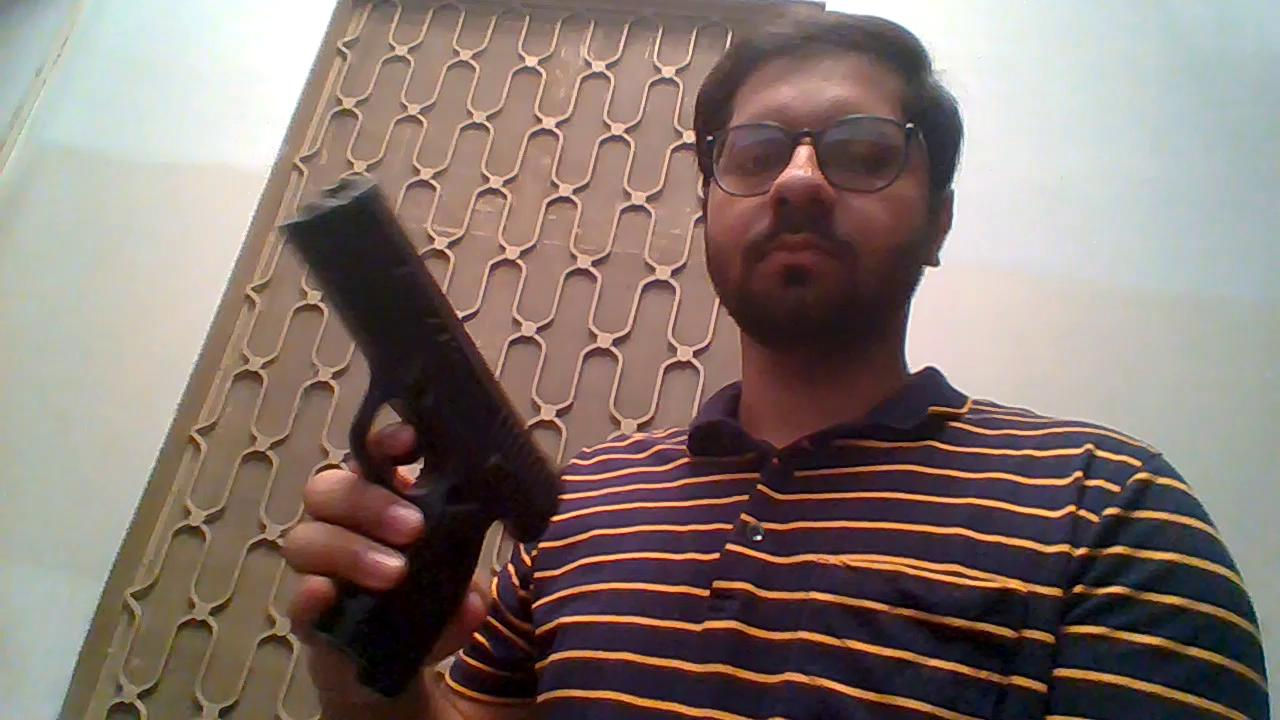criminal: (275, 11, 1272, 720)
weapon: (278, 170, 566, 695)
